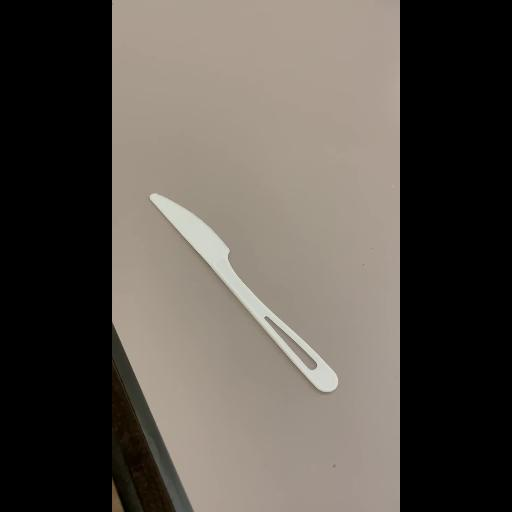utensil: (139, 176, 351, 400)
